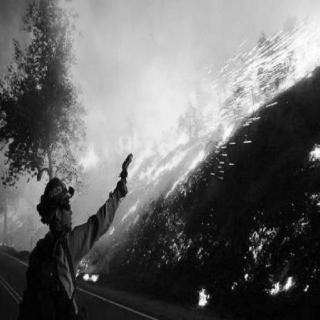Fire: (79, 66, 255, 200), (241, 220, 281, 274), (266, 264, 302, 298), (197, 281, 213, 311), (308, 129, 320, 168)
